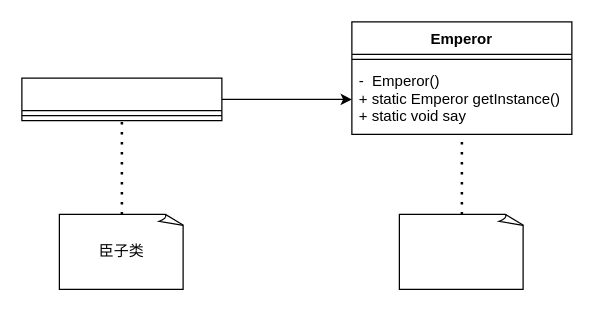
Some shapes in this 594 by 311 pixel diagram are drawn without their labels. The box of each missing label's shape, as (x1, y1, x2, y2) in pixels:
Minister: (21, 77, 222, 121)
皇帝类: (398, 213, 524, 289)
